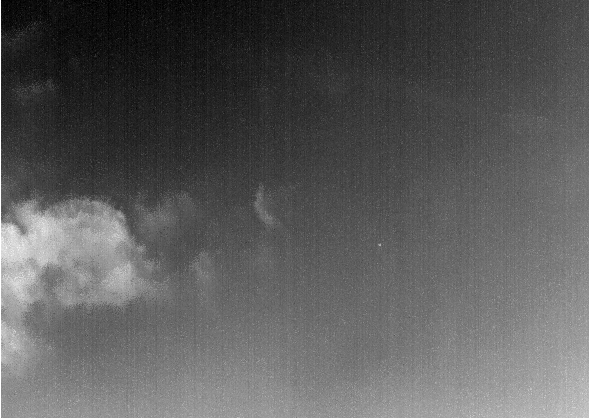dim target: (376, 242, 383, 248)
